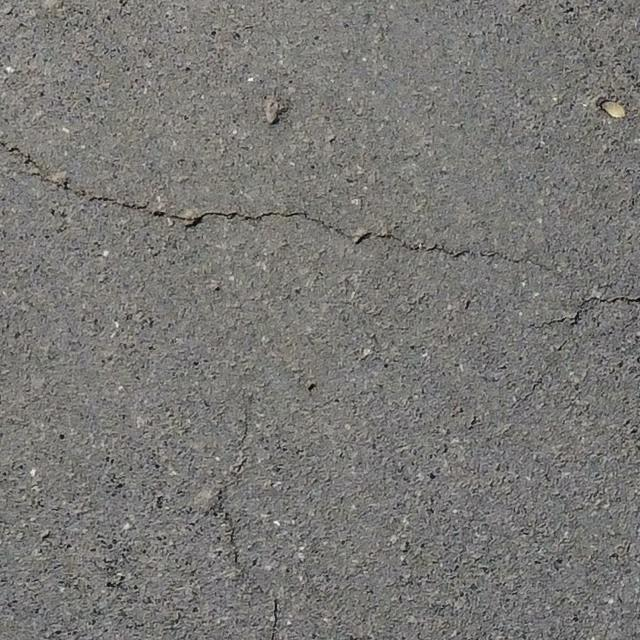TransverseCrack: (1, 143, 551, 271), (538, 294, 640, 329)
